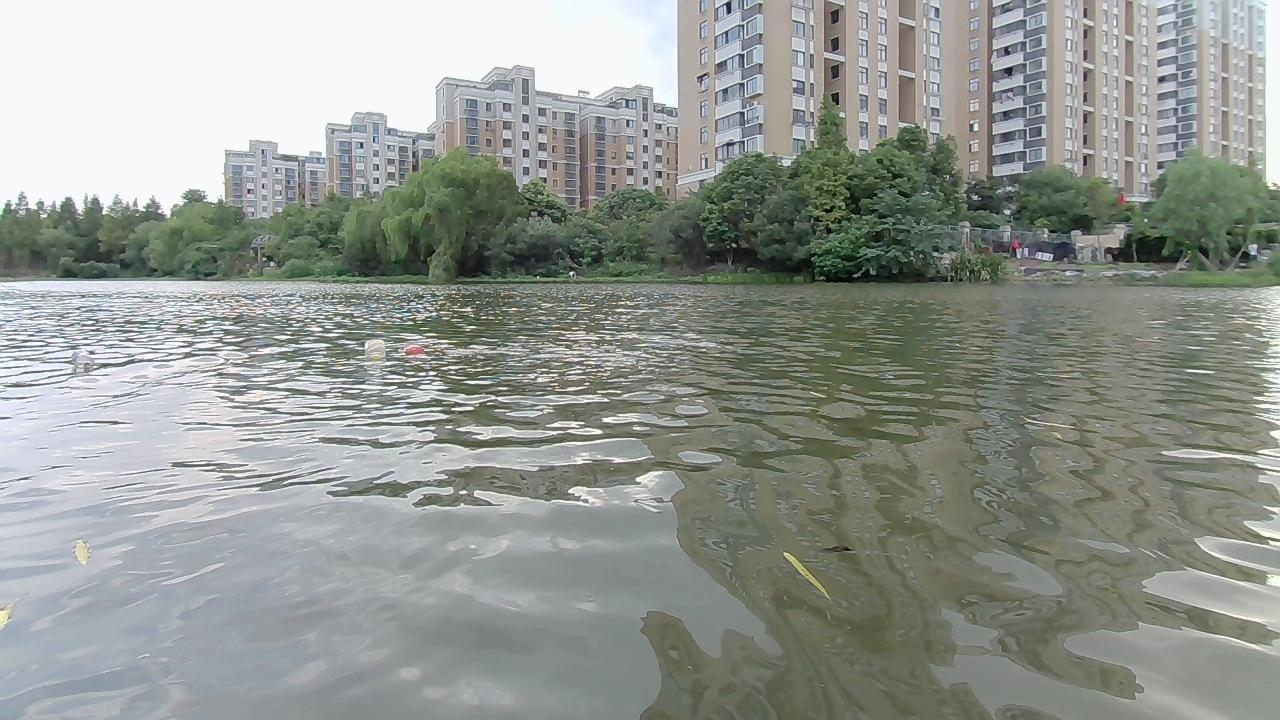bottle: (66, 352, 101, 373), (361, 335, 385, 352), (402, 343, 426, 358)
